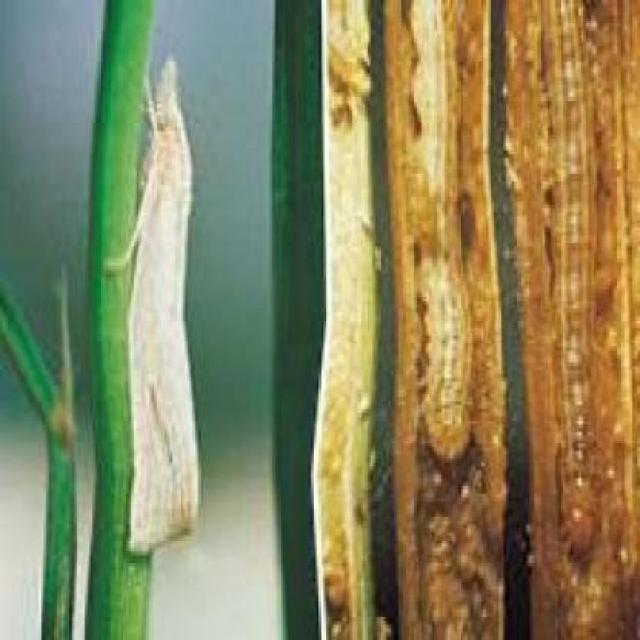stem-borer: (97, 48, 205, 563)
